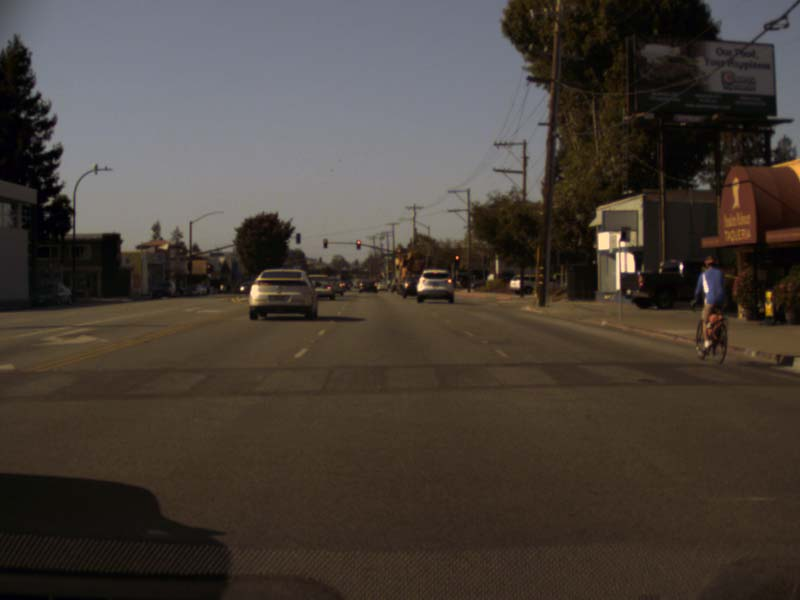Red: (453, 254, 459, 268), (323, 238, 327, 247), (357, 240, 360, 248)
